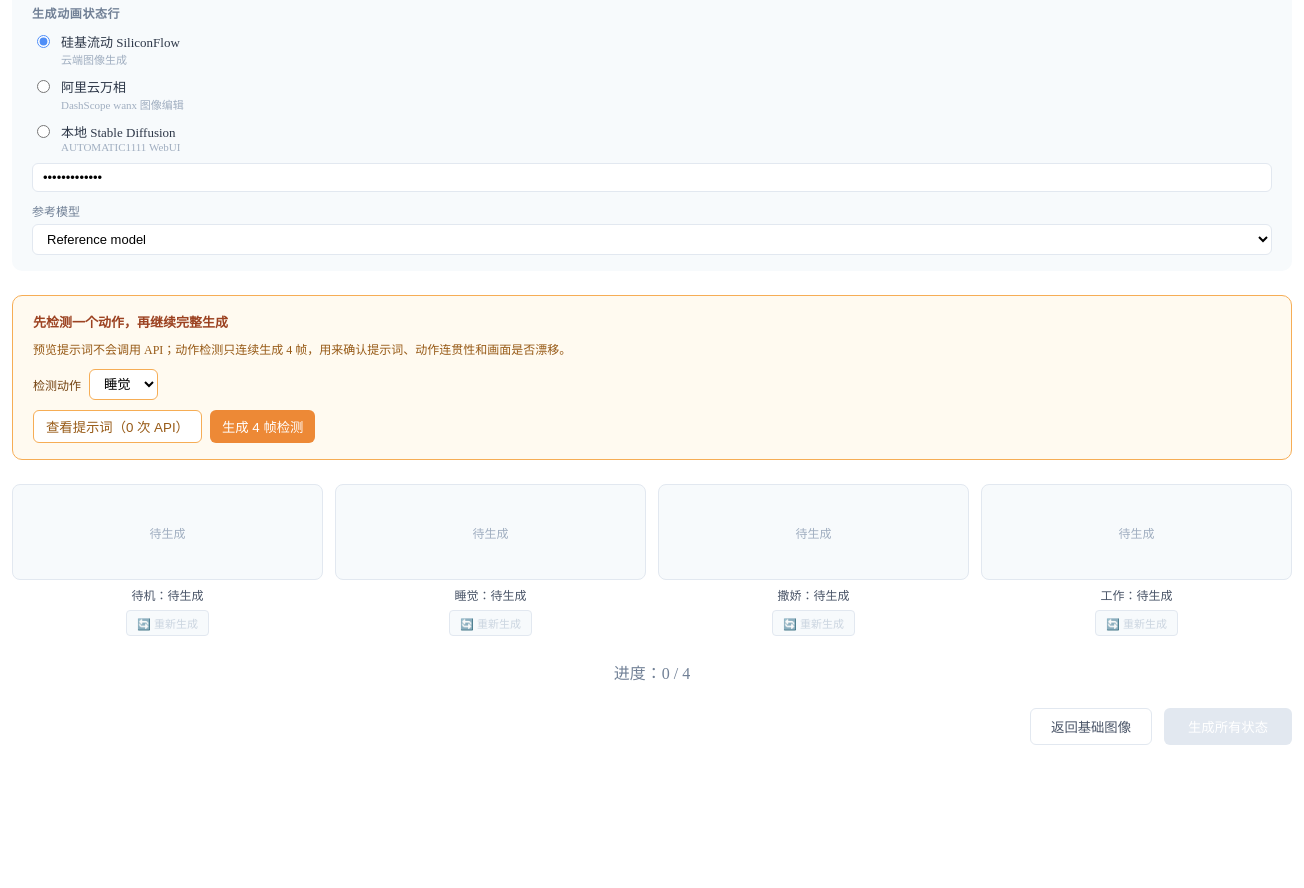
Test: StateGenerationStep › previews and probes only one selected action before unlocking full generation
Check: the button "生成所有状态" is disabled, box [1164,708,1292,745]
What coordinates should you click on to do the following:
click the button with aria-label "查看检测动作提示词"
I would click on:
 (117, 426)
Its box is [33,410,202,443].
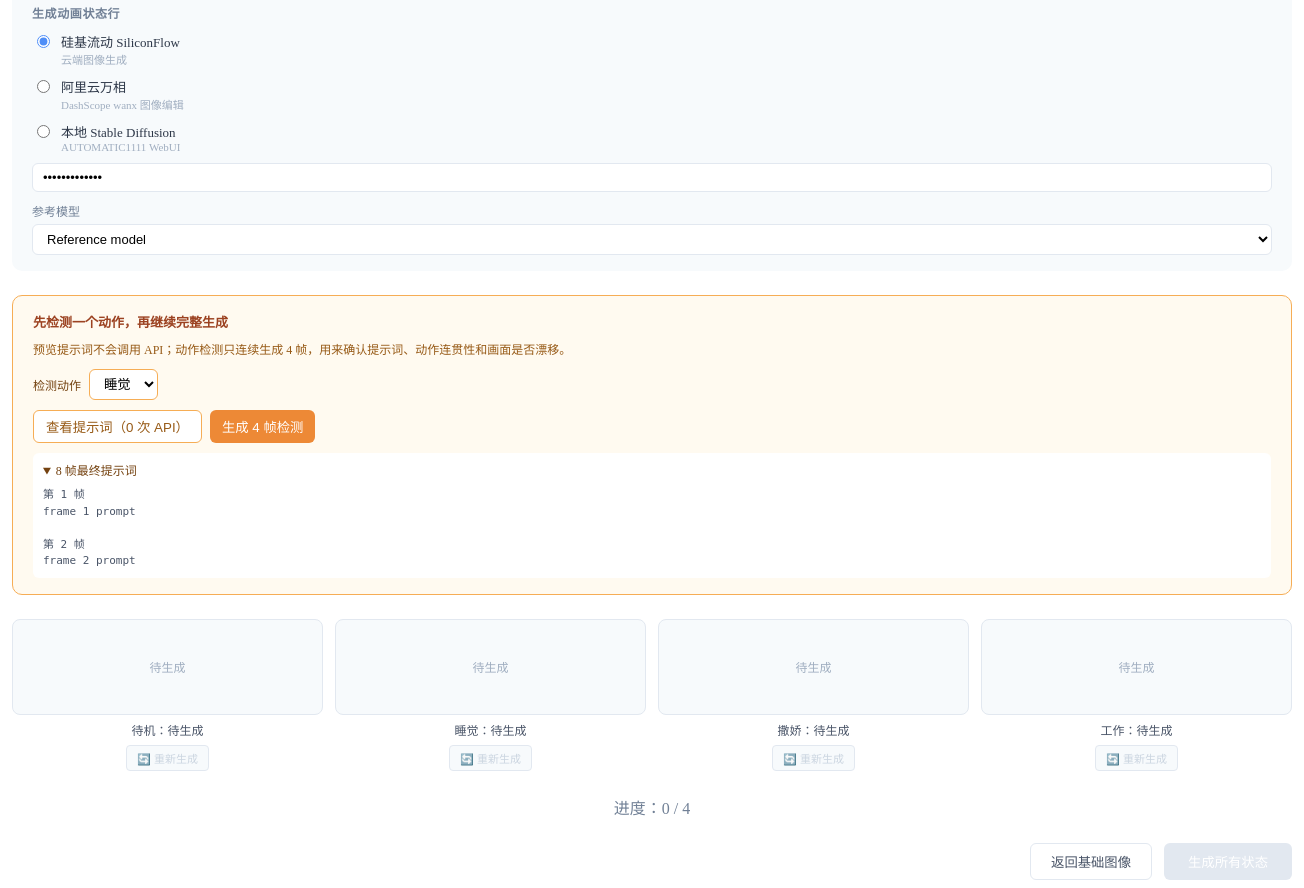
Check: the text "第 1 帧 frame 1 prompt 第 2 帧 frame 2 prompt" is shown, box [43,488,136,567]
What coordinates should you click on to do the following:
click the button "生成 4 帧检测"
I would click on:
 (263, 426)
Its box is [210,410,315,443].
(page scrolled)
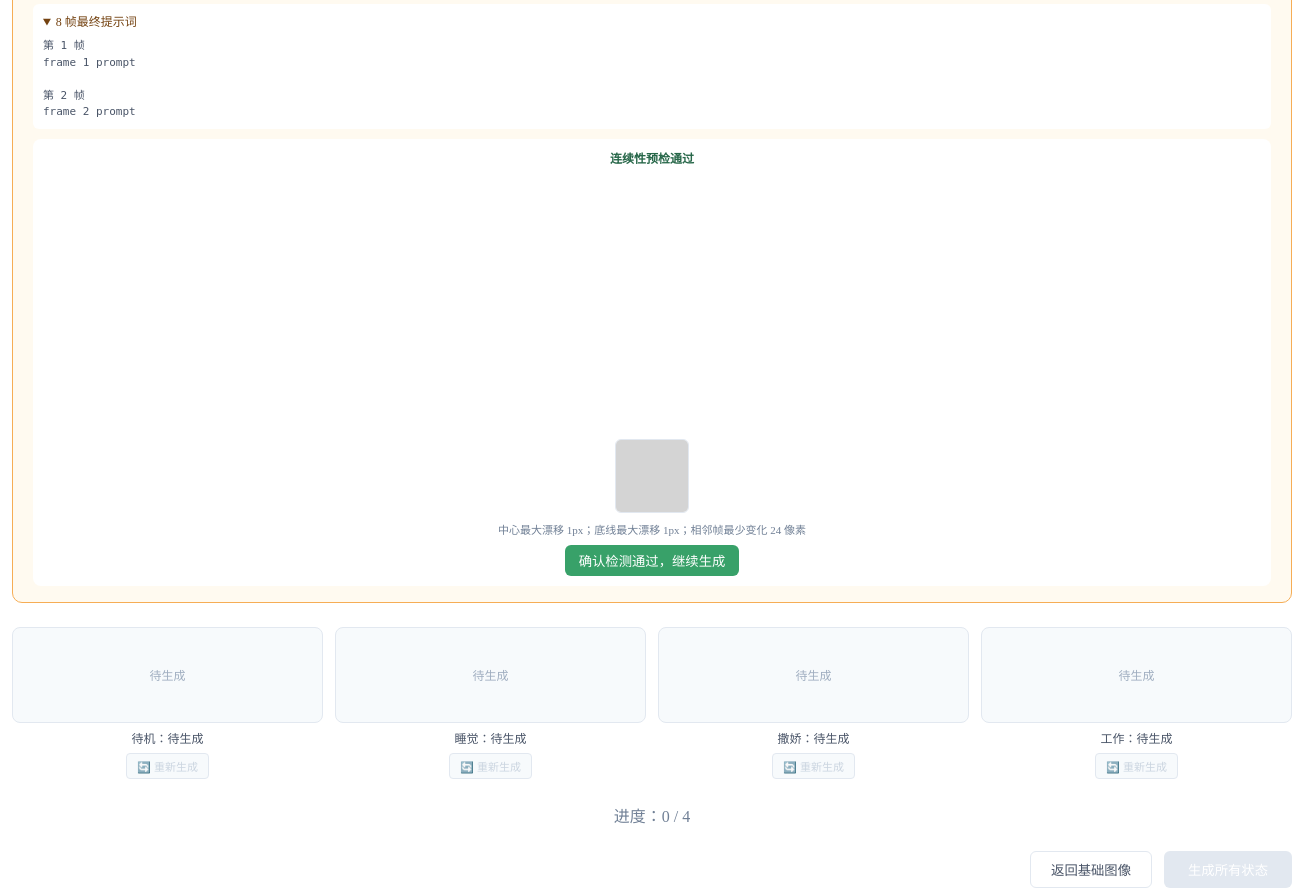
Check: the text "连续性预检通过" is shown, box [610,148,694,166]
What coordinates should you click on to do the following:
click the button "确认检测通过，继续生成"
I would click on:
 (652, 560)
Its box is [565,544,739,576].
(page scrolled)
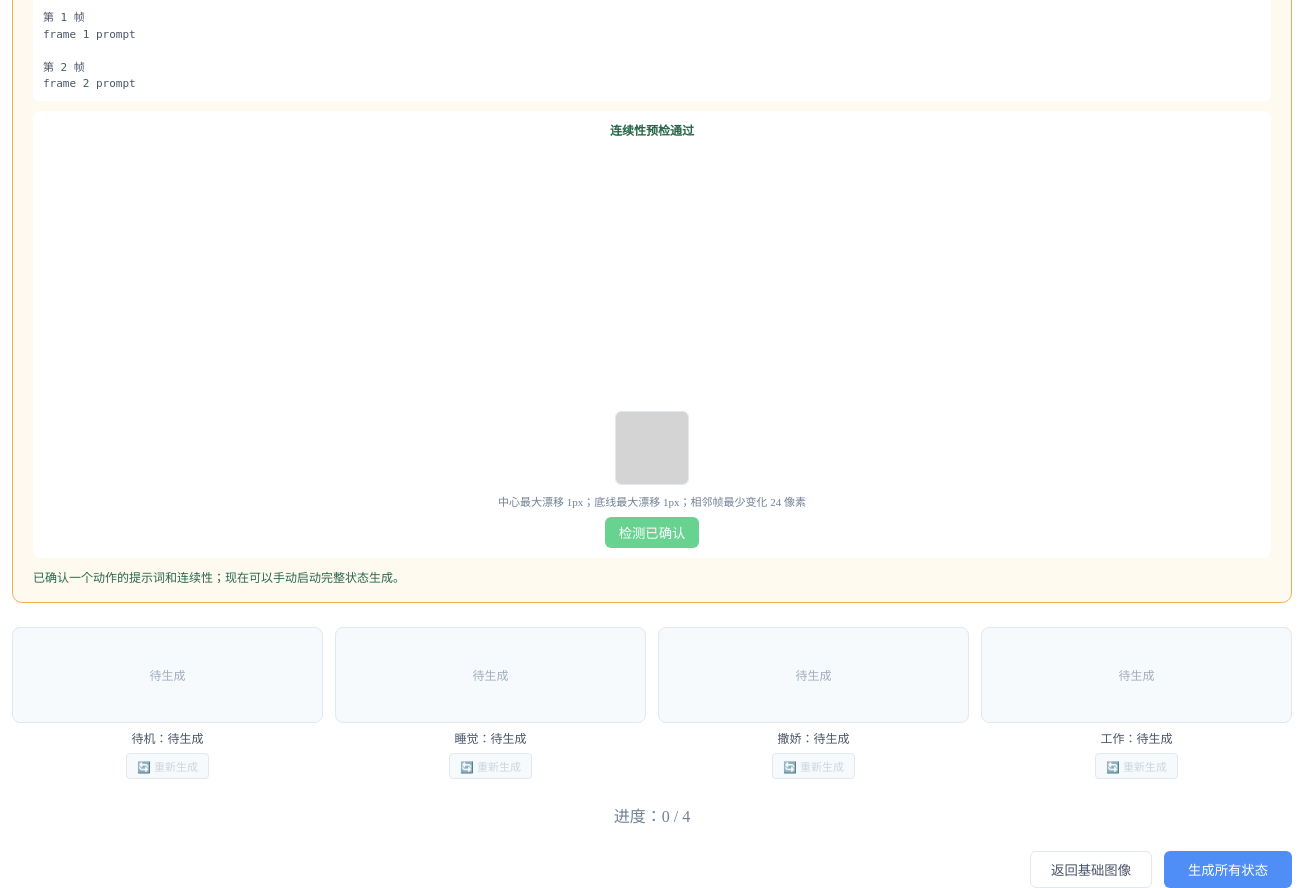
Check: the button "生成所有状态" is enabled, box [1164,850,1292,887]
